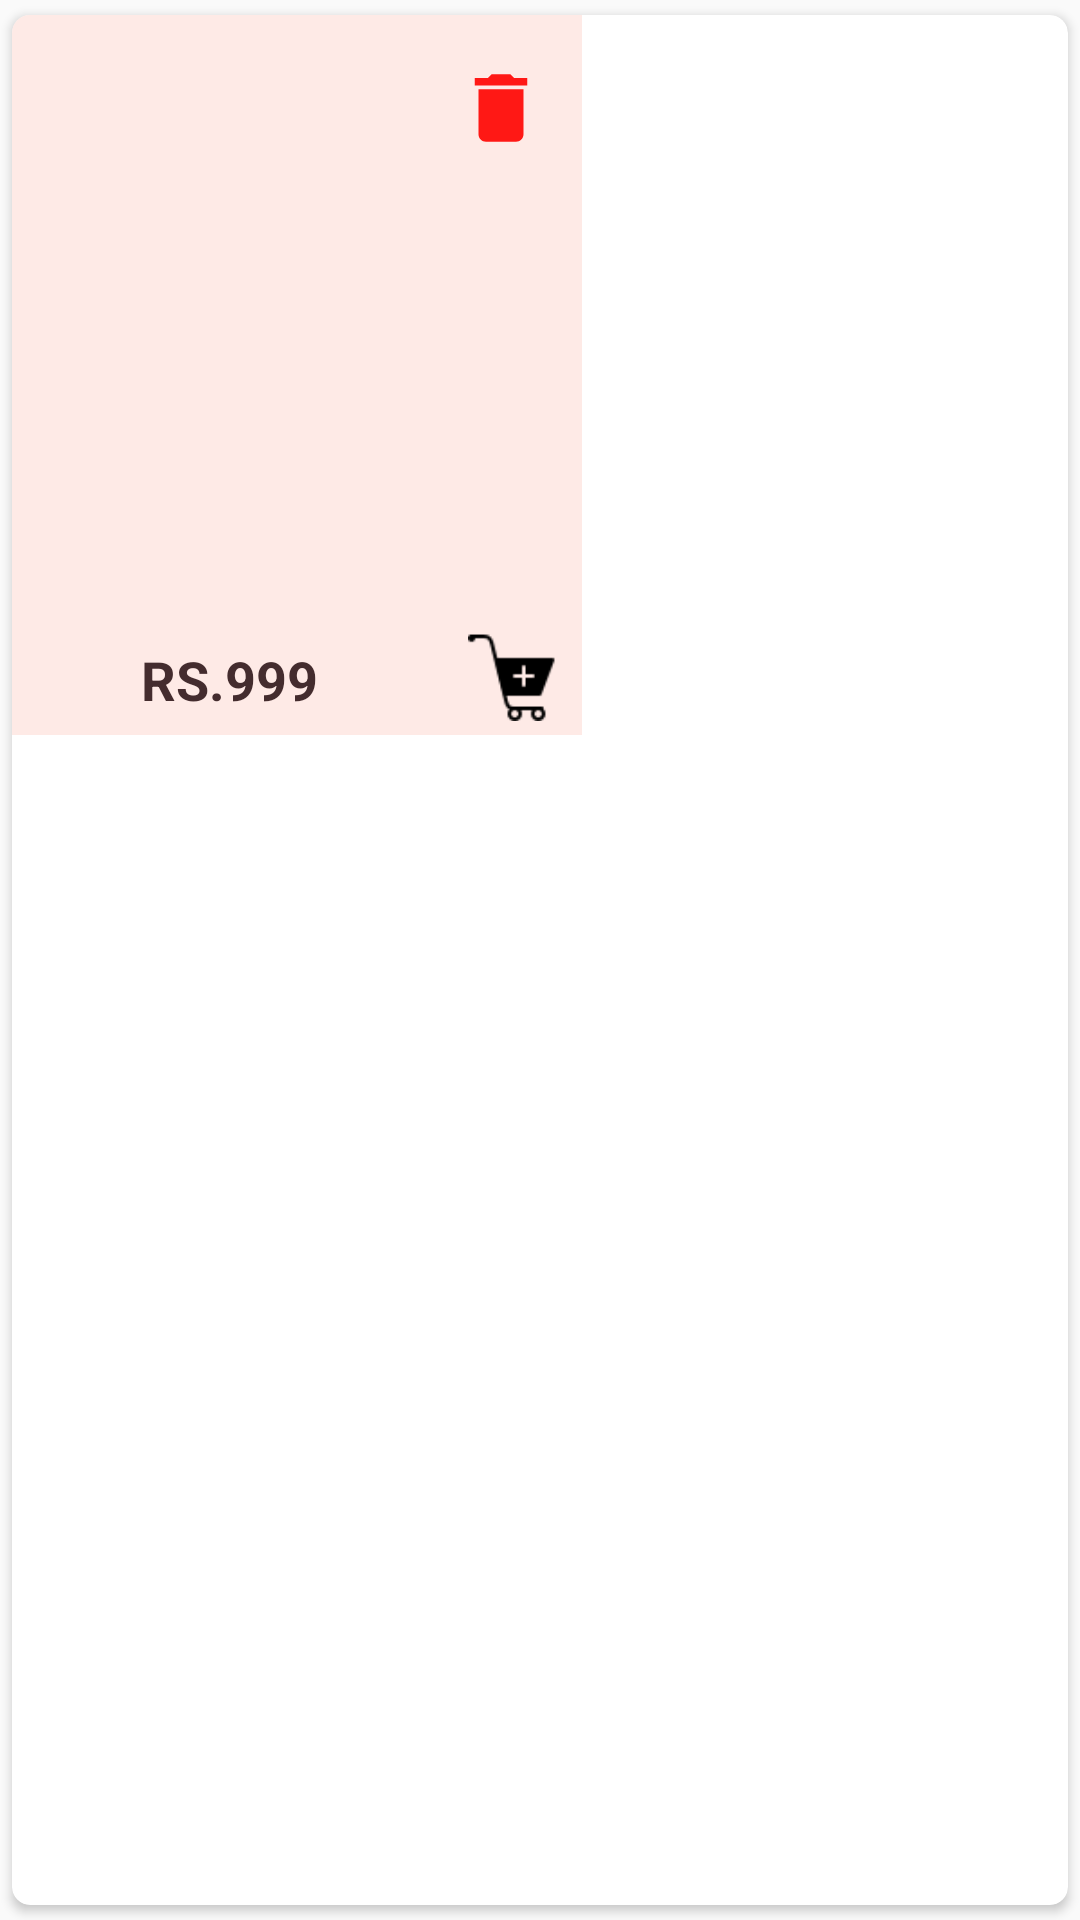

Where icons sit on this 1080px×1920px app screen, as (x1,y1,x2,y2):
add cart: (468,634,555,721)
delete: (474,74,528,142)
